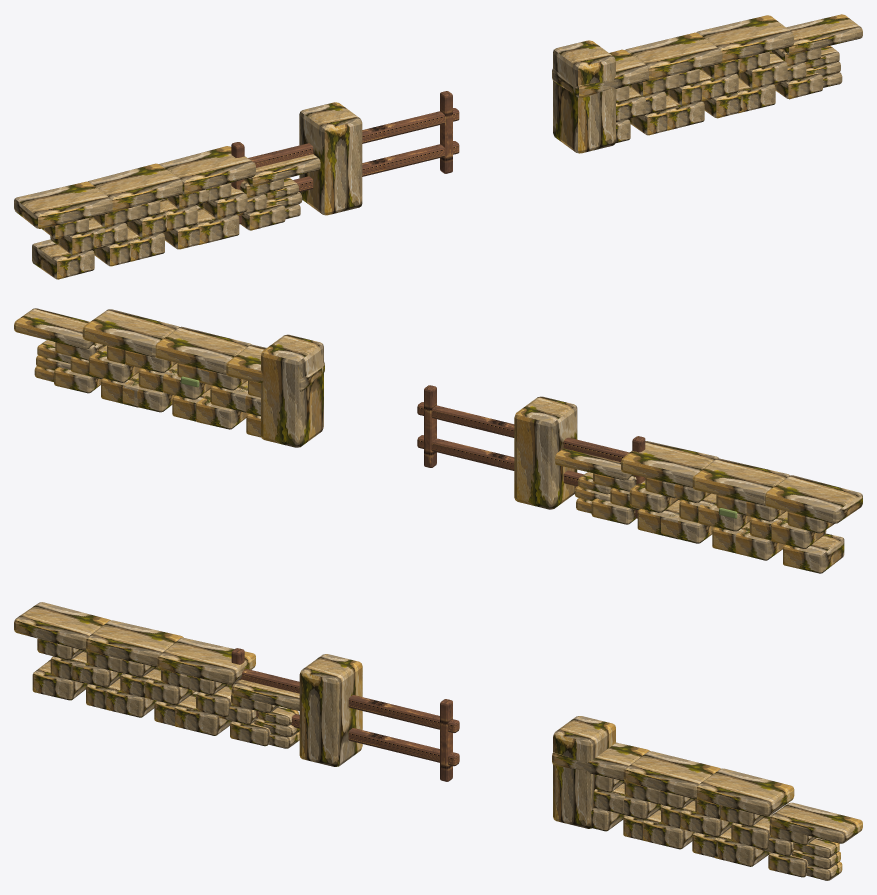
Rendered from drystone_gate.glb.
3 renders of one model, top to bottom at view 1: azimuth 30°, elevation 25°; view 2: azimuth 150°, elevation 25°; view 3: azimuth 330°, elevation 25°, orthographic.
Visible parts, largest first — view 1: Painted Cotswold drystone, Painted field gate timber; view 2: Painted Cotswold drystone, Painted field gate timber; view 3: Painted Cotswold drystone, Painted field gate timber.
Boxes of the visible parts, x1,y1,x2,y2 form: Painted Cotswold drystone: (14,14,862,279); Painted field gate timber: (231,91,459,224); Painted Cotswold drystone: (14,308,862,573); Painted field gate timber: (417,385,645,518); Painted Cotswold drystone: (14,602,862,880); Painted field gate timber: (231,648,459,781).
Bounding box in the file's own units: 14.72 × 1.52 × 0.8777.
Materials: 3 (2 with a texture image).
